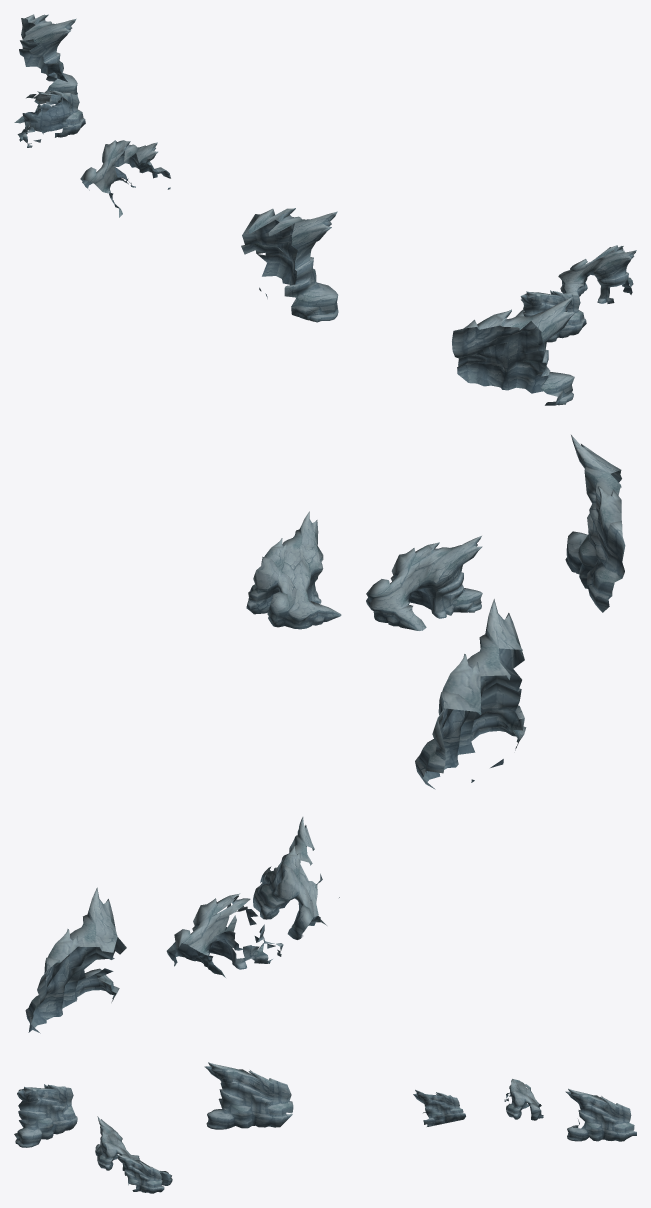
The model's file is yanshi5_1.fbx.
3 renders of one model, top to bottom at view 1: azimuth 30°, elevation 25°; view 2: azimuth 150°, elevation 25°; view 3: azimuth 270°, elevation 25°, orthographic. The views are drawn at different scales.
Parts seen in each view (by area): view 1: yanshi5_1; view 2: yanshi5_1; view 3: yanshi5_1.
Boxes of the visible parts, x1,y1,x2,y2 form: yanshi5_1: [14, 14, 636, 405]; yanshi5_1: [25, 435, 625, 1033]; yanshi5_1: [14, 1062, 636, 1193].
Bounding box in the file's own units: 5823 × 2269 × 16139.
